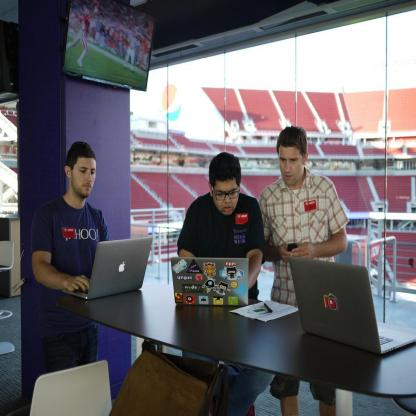board: (288, 258, 416, 354), (61, 237, 153, 302), (171, 258, 249, 305)
